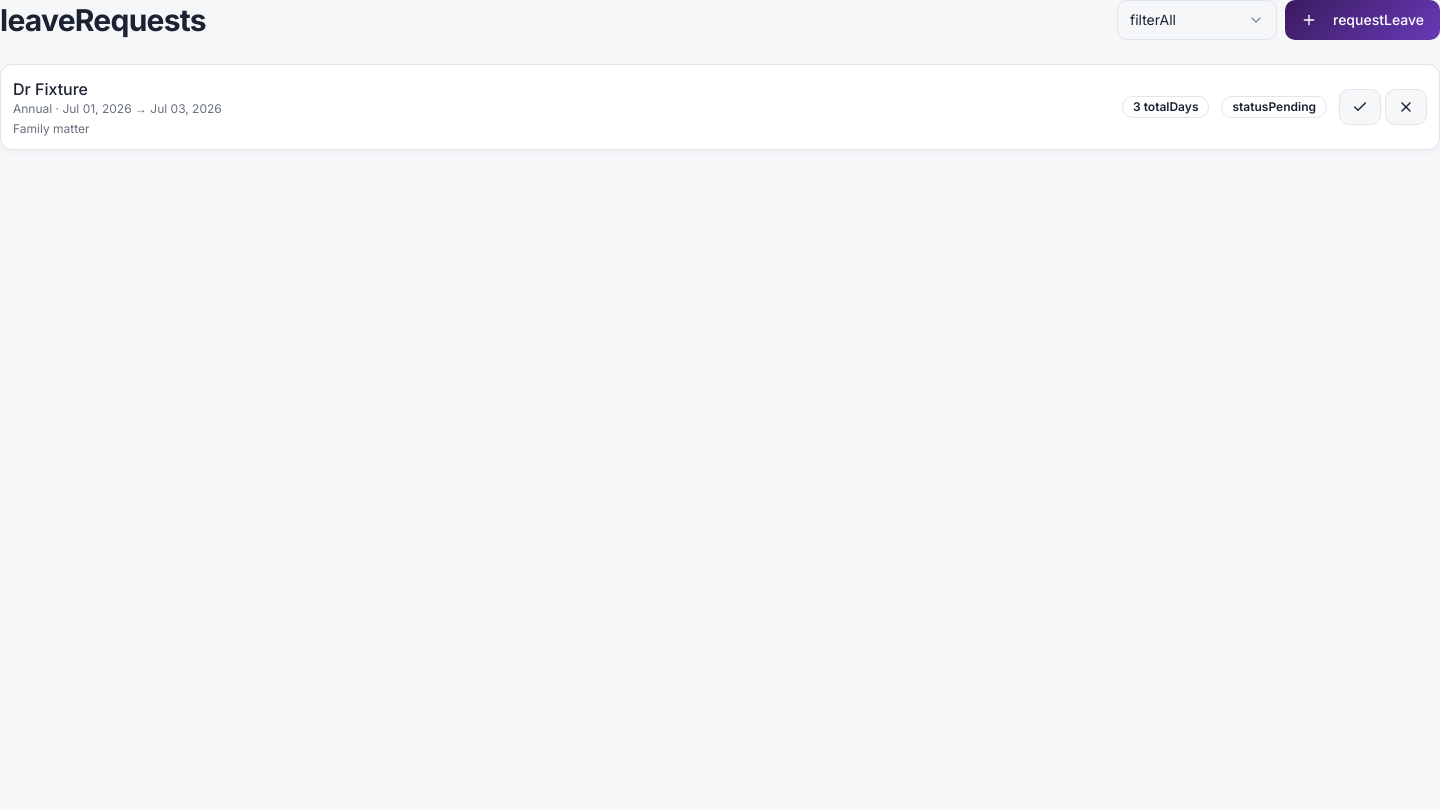
Test: leave rejection dialog › Cancel writes nothing and leaves the request where it was
Click the button named "Reject request".
click(1406, 107)  # box [1385,89,1427,125]
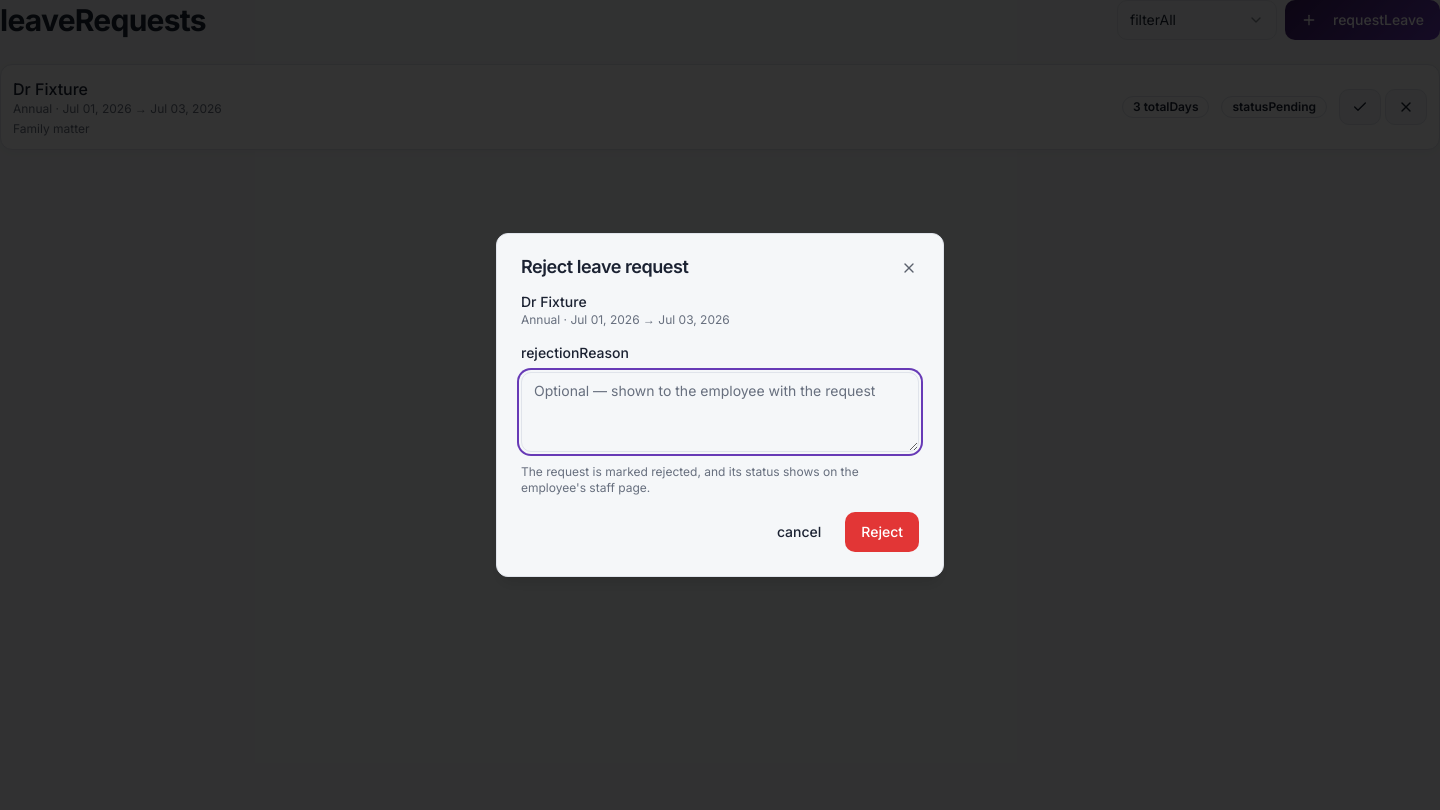
Click the button "cancel".
click(799, 532)  # box [761,512,837,552]
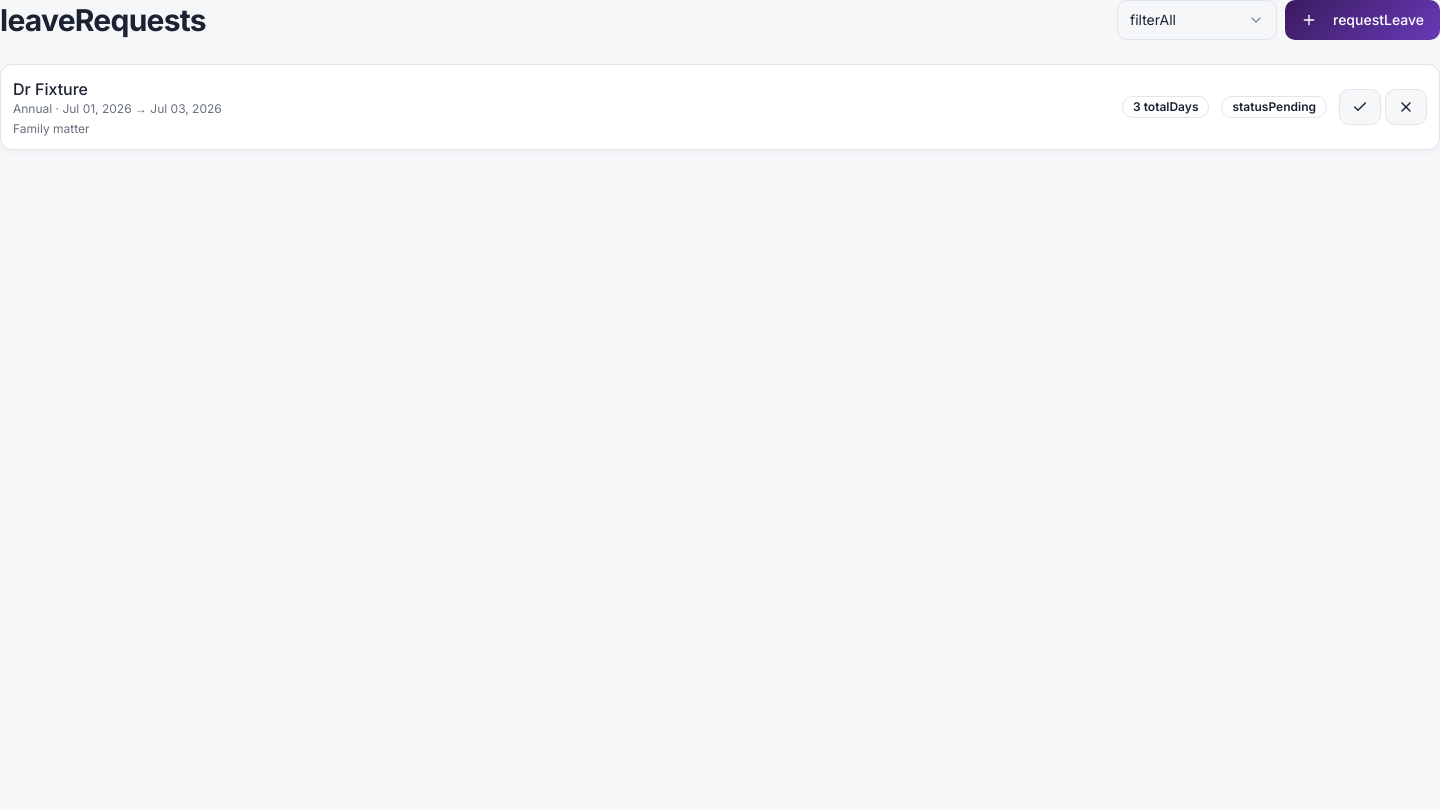
Expected: the button named "Reject request" is shown, [1385,89,1427,125]
Now the dialog is gone
